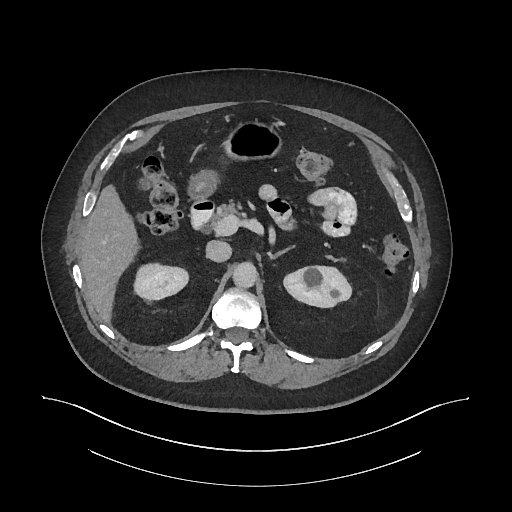Lesion: (301, 266, 325, 294)
